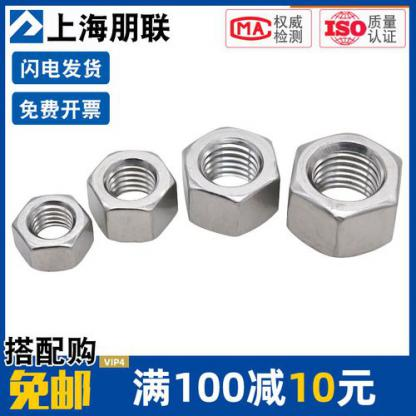FOD: (284, 129, 402, 260), (180, 127, 284, 242), (88, 148, 179, 241), (13, 191, 96, 268)
